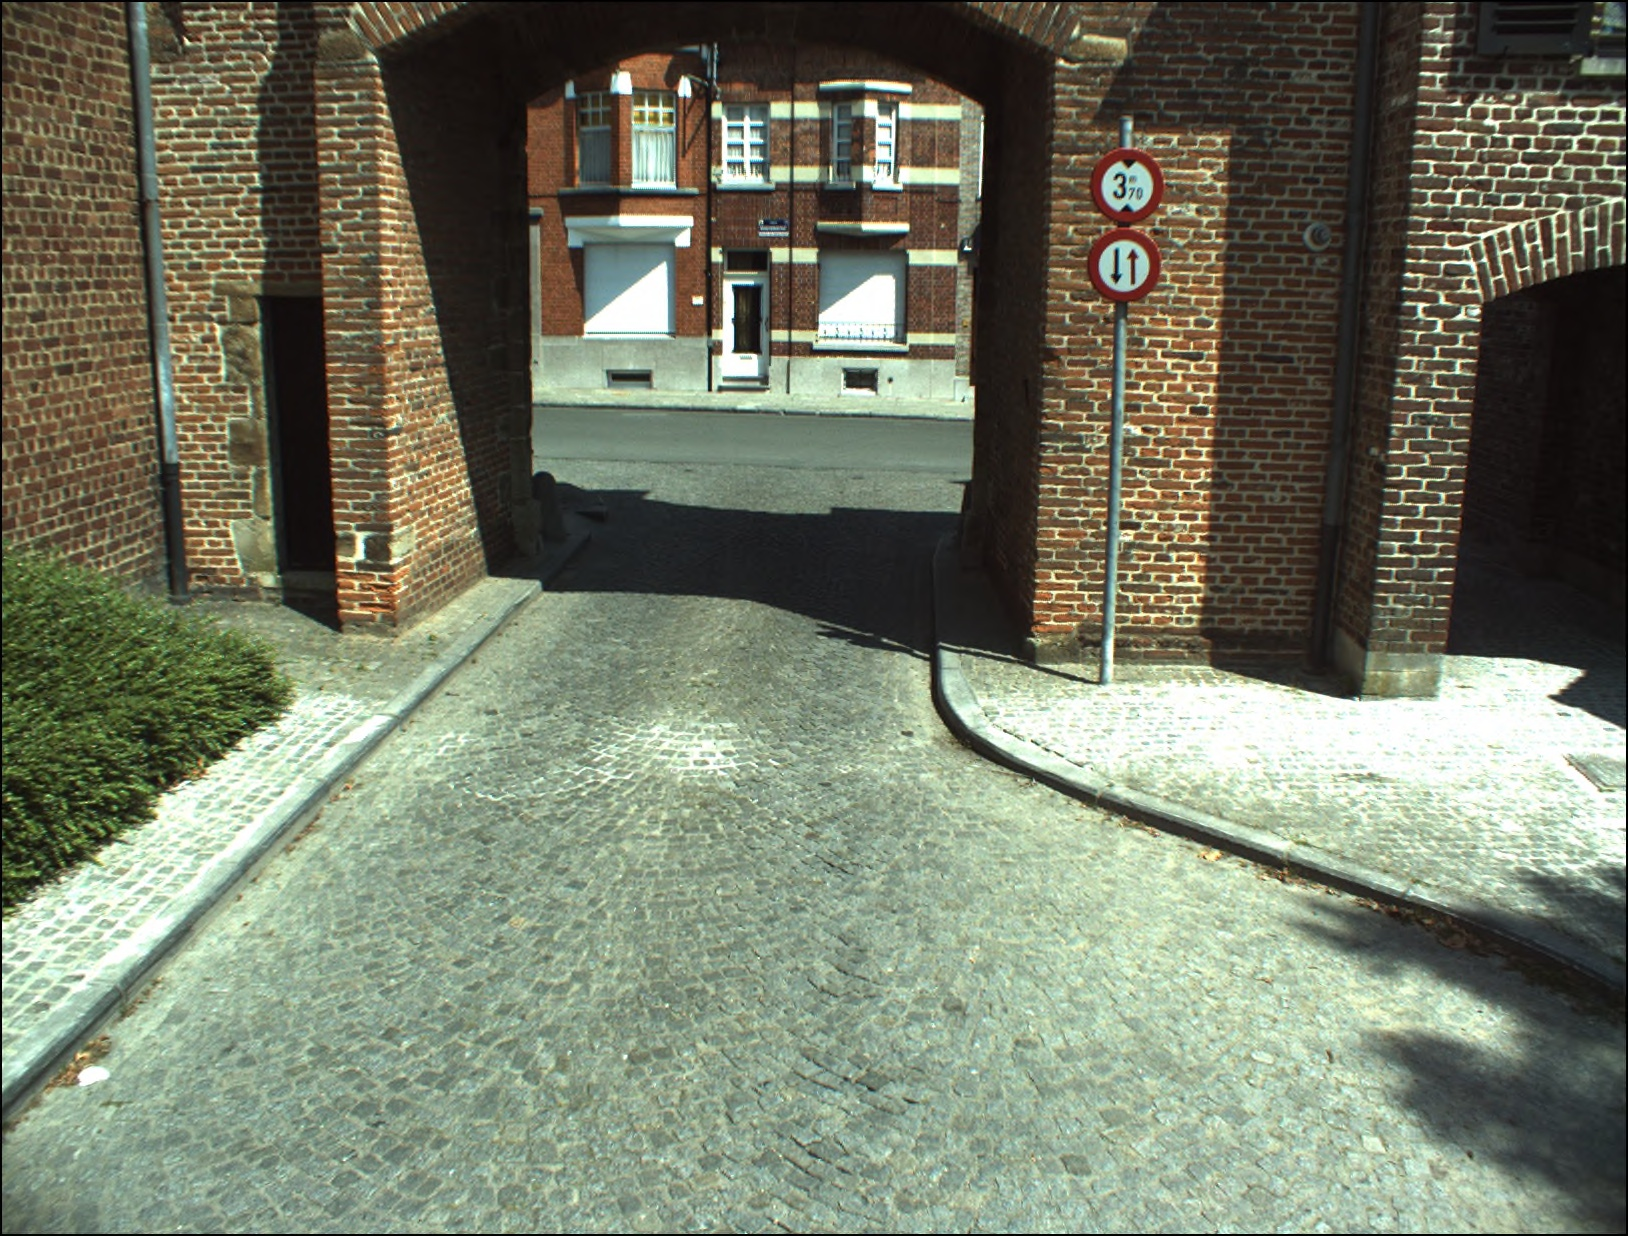roadnarrow2: (1088, 227, 1161, 299)
